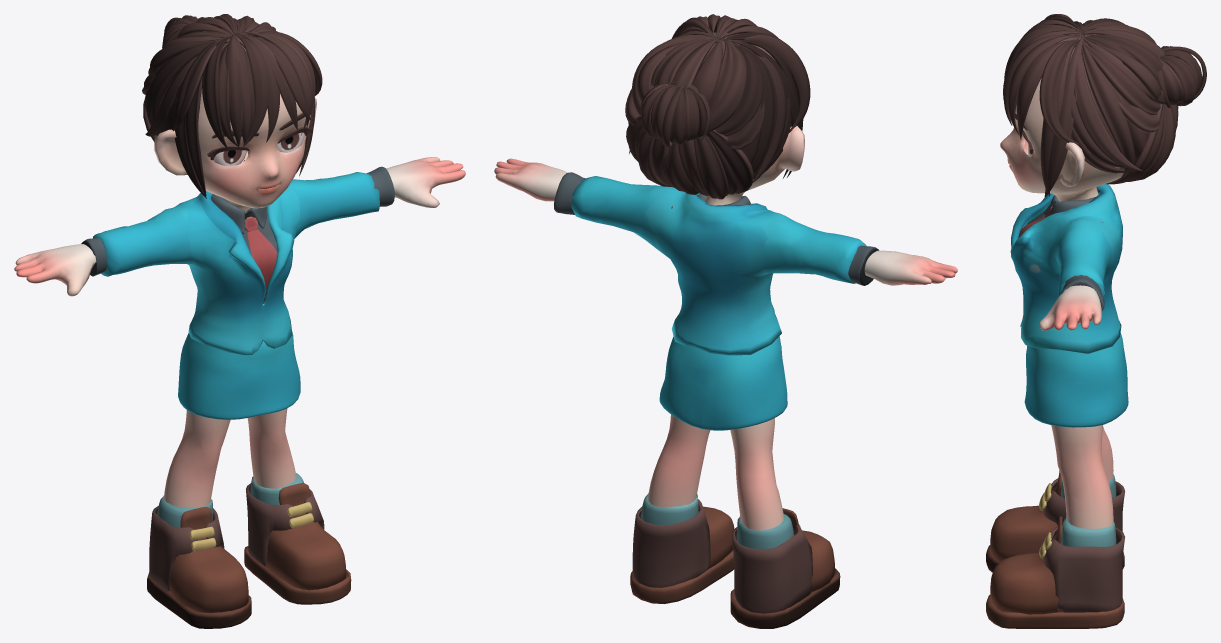
Rendered from MANAGF1_low.fbx.
The picture shows the model from 3 angles, left to right: view 1: azimuth 30°, elevation 25°; view 2: azimuth 150°, elevation 25°; view 3: azimuth 270°, elevation 25°; orthographic projection. The views are drawn at different scales.
Visible parts, largest first — view 1: managerF1_low; view 2: managerF1_low; view 3: managerF1_low.
Boxes of the visible parts, x1,y1,x2,y2 form: managerF1_low: (14, 14, 465, 628); managerF1_low: (494, 14, 957, 628); managerF1_low: (986, 14, 1206, 628).
Size of the model in its own units: 184 by 219 by 77.33.
